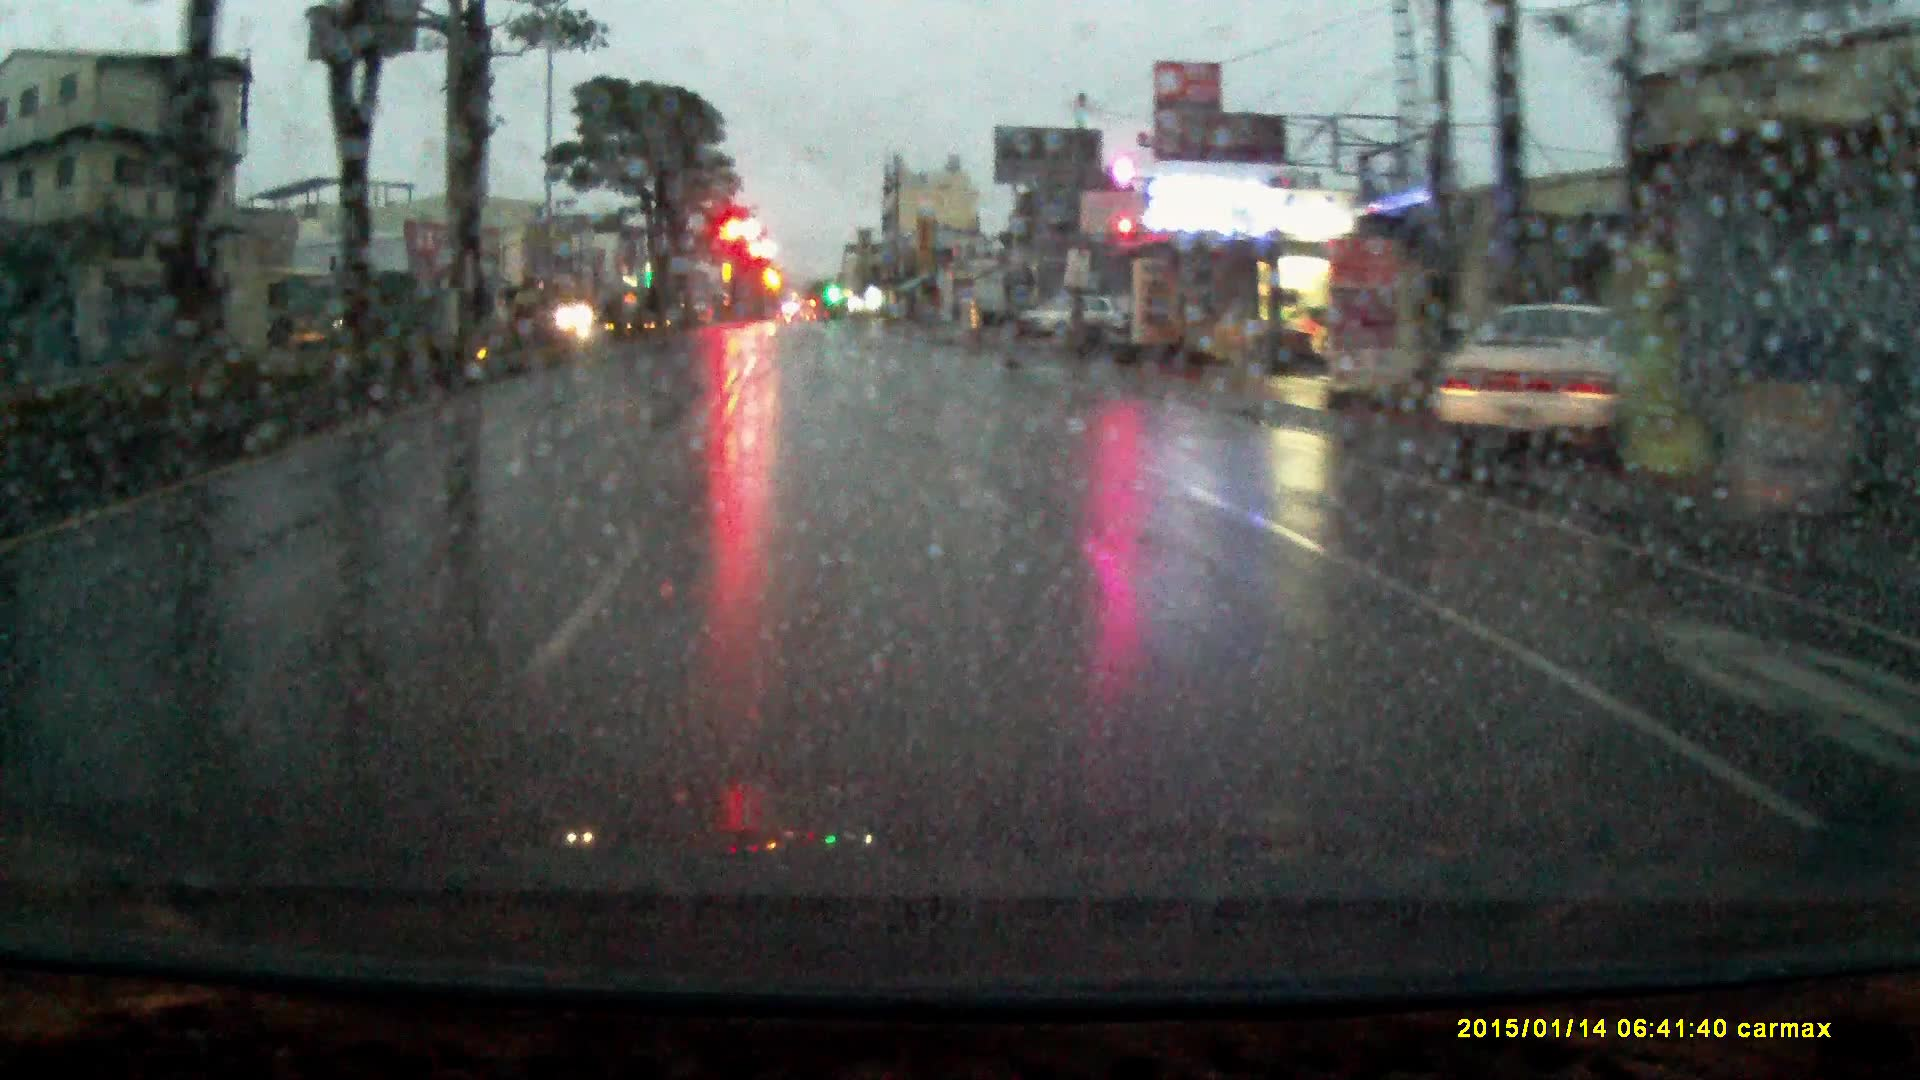vehicle: (1427, 287, 1676, 459), (1019, 291, 1120, 338), (556, 299, 603, 332)
